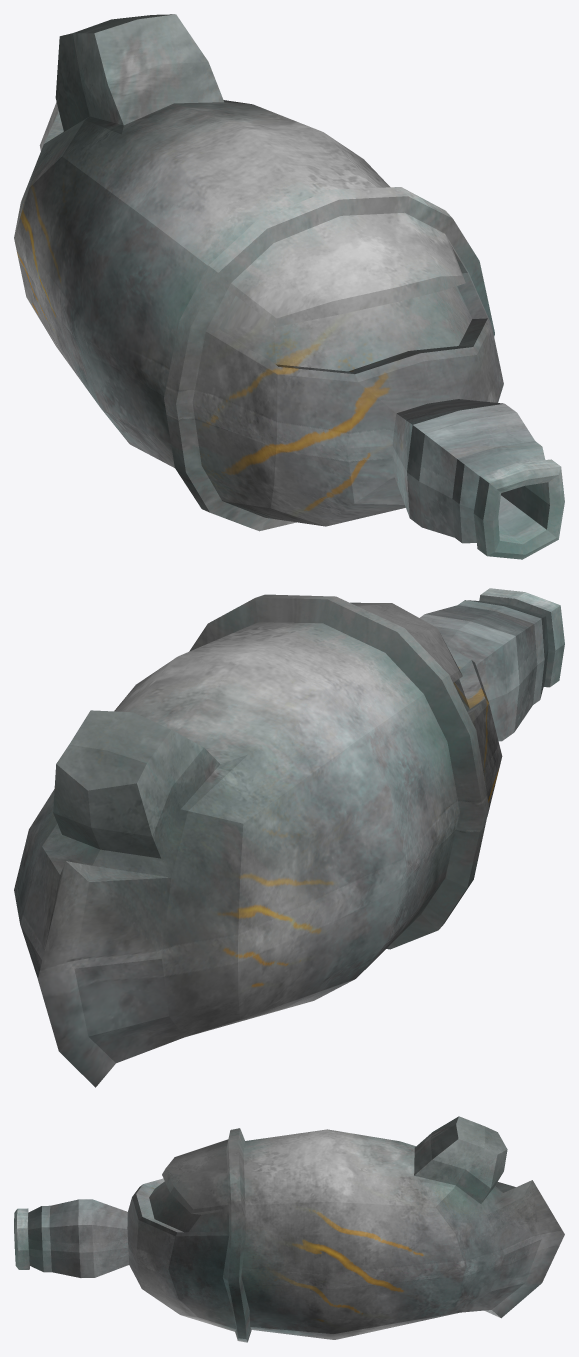
Rendered from Gun_Principal.FBX.
3 views of the same model, one above another, from view 1: azimuth 30°, elevation 25°; view 2: azimuth 150°, elevation 25°; view 3: azimuth 270°, elevation 25° (orthographic). The views are drawn at different scales.
Parts seen in each view (by area): view 1: Box026; view 2: Box026; view 3: Box026.
Boxes of the visible parts, x1=… form: Box026: x1=14, y1=14, x2=564, y2=559; Box026: x1=14, y1=588, x2=564, y2=1087; Box026: x1=14, y1=1116, x2=564, y2=1342.
Bounding box in the file's own units: 48.56 × 51.83 × 129.
1 material, 1 textured.
